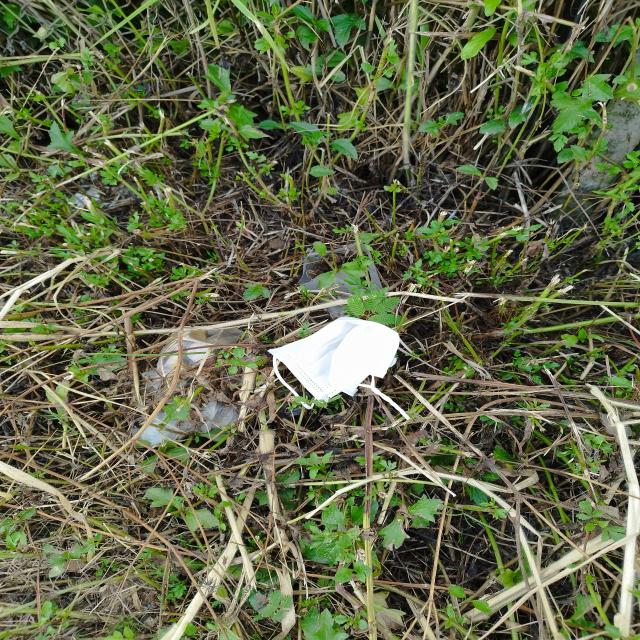bag: (131, 328, 256, 447), (296, 248, 385, 314)
mask: (267, 318, 401, 405)
